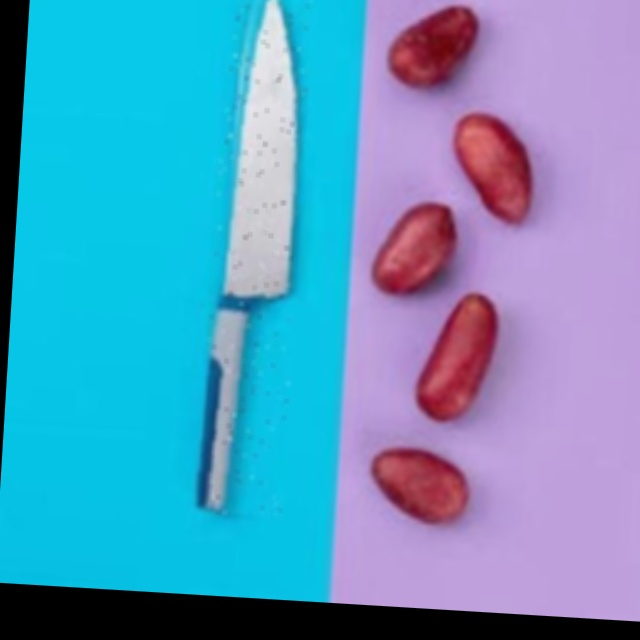Sharp-Object: (199, 0, 312, 517)
